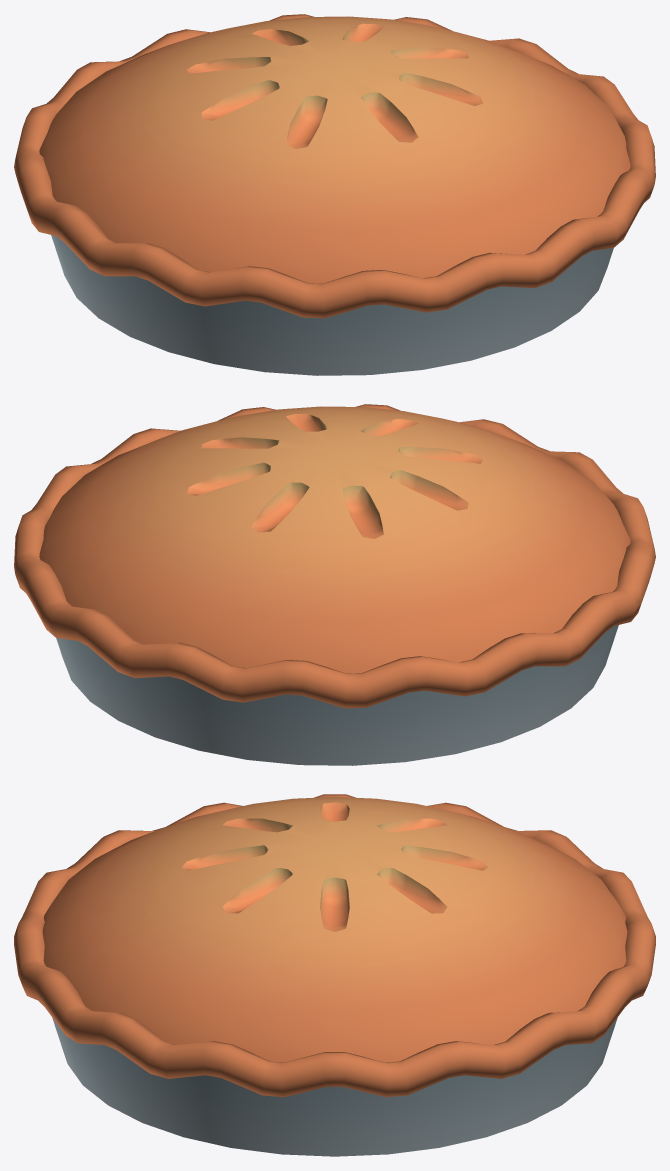
File: Pie_V1_00.fbx
The picture shows the model from 3 angles, top to bottom: view 1: azimuth 30°, elevation 25°; view 2: azimuth 150°, elevation 25°; view 3: azimuth 270°, elevation 25°; orthographic projection.
Parts seen in each view (by area): view 1: Pie_V1_00; view 2: Pie_V1_00; view 3: Pie_V1_00.
Part boxes in pixels (x1,y1,x2,y2): Pie_V1_00: [14, 14, 655, 375]; Pie_V1_00: [14, 404, 655, 765]; Pie_V1_00: [14, 794, 655, 1156].
Size of the model in its own units: 95.49 by 31.93 by 95.49.
